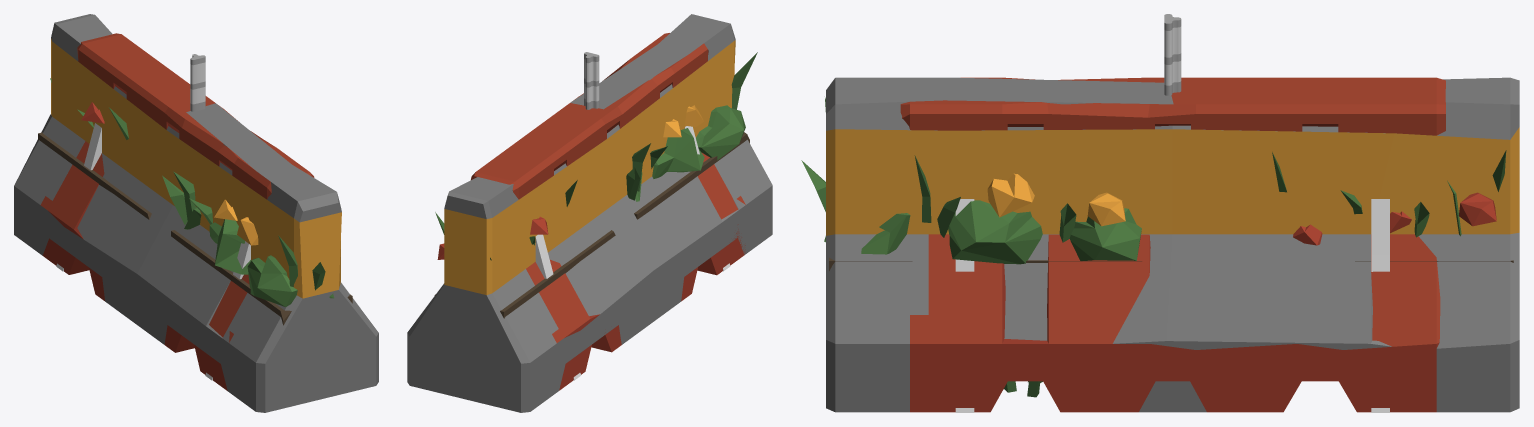
The model's file is dividers.glb.
3 views of the same model, side by side, from view 1: azimuth 30°, elevation 25°; view 2: azimuth 150°, elevation 25°; view 3: azimuth 270°, elevation 25° (orthographic). The views are drawn at different scales.
Visible parts, largest first — view 1: jersey-barrier-concrete, jersey-barrier-plastic, planter-box, barricade, bollard; view 2: jersey-barrier-concrete, jersey-barrier-plastic, planter-box, bollard, barricade; view 3: jersey-barrier-concrete, jersey-barrier-plastic, planter-box, barricade, bollard.
Boxes of the visible parts, <box> form: jersey-barrier-concrete: <box>14,14,378,412</box>; jersey-barrier-plastic: <box>40,33,314,390</box>; planter-box: <box>38,78,352,325</box>; barricade: <box>56,123,250,380</box>; bollard: <box>190,54,205,111</box>; jersey-barrier-concrete: <box>407,14,772,412</box>; jersey-barrier-plastic: <box>471,33,745,390</box>; planter-box: <box>434,52,757,318</box>; bollard: <box>584,52,599,109</box>; barricade: <box>535,126,730,380</box>; jersey-barrier-concrete: <box>826,77,1519,412</box>; jersey-barrier-plastic: <box>900,77,1445,412</box>; planter-box: <box>801,97,1513,270</box>; barricade: <box>955,199,1389,412</box>; bollard: <box>1164,14,1181,95</box>.
Size of the model in its own units: 0.664 by 1.28 by 2.37.
Materials: 1 (1 with a texture image).
